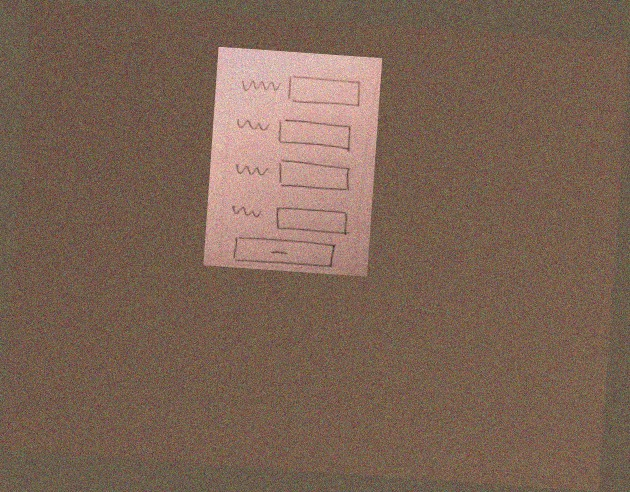button: (230, 234, 338, 272)
text: (237, 75, 284, 95), (230, 159, 271, 181), (234, 115, 273, 138), (228, 202, 264, 223)
text_input: (285, 71, 366, 113), (275, 114, 356, 155), (275, 157, 356, 196), (274, 204, 355, 240)
